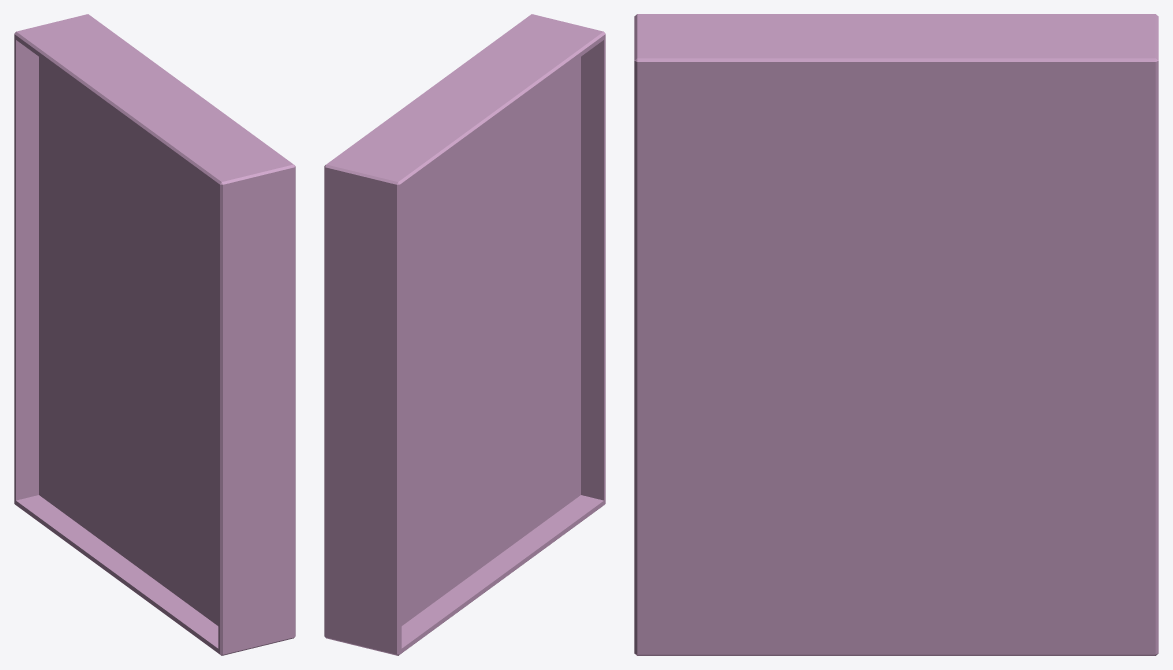
The model's file is Case_Base.fbx.
3 views of the same model, side by side, from view 1: azimuth 30°, elevation 25°; view 2: azimuth 150°, elevation 25°; view 3: azimuth 270°, elevation 25° (orthographic). The views are drawn at different scales.
Visible parts, largest first — view 1: Case_Base; view 2: Case_Base; view 3: Case_Base.
Boxes of the visible parts, box(x1,y1,x2,y2) form: Case_Base: box(14, 14, 295, 655); Case_Base: box(324, 14, 605, 655); Case_Base: box(634, 14, 1158, 655).
Bounding box in the file's own units: 7.71 × 46.03 × 36.59.
